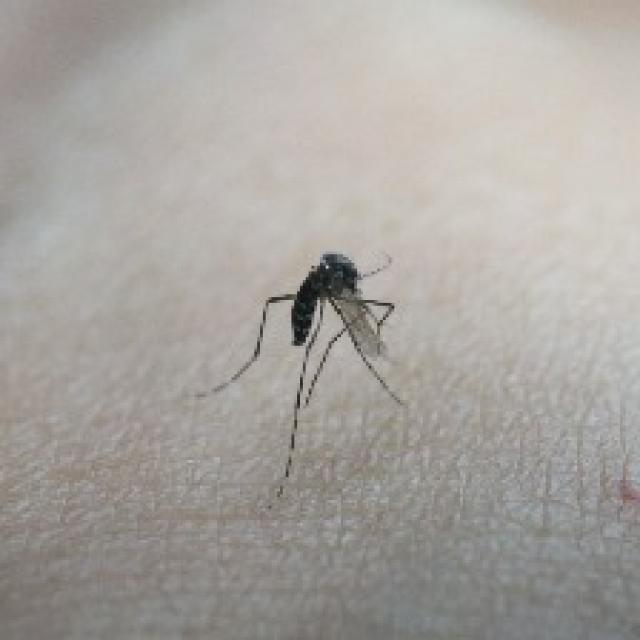aedes: (197, 246, 409, 500)
